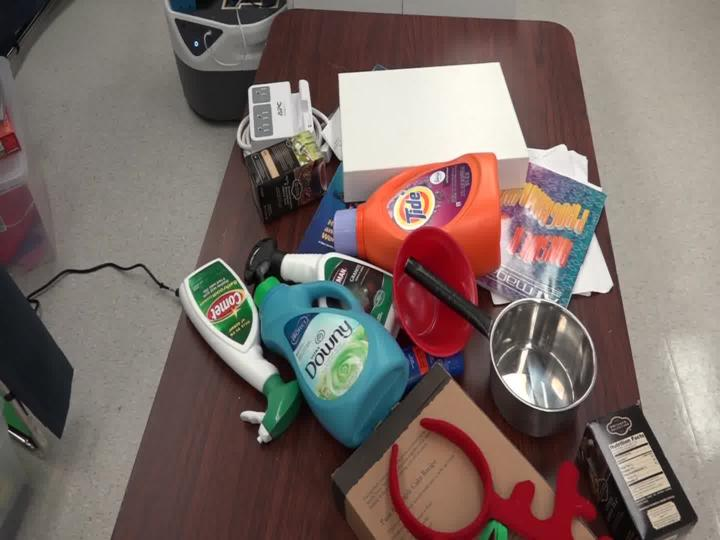tide: (320, 137, 521, 294)
